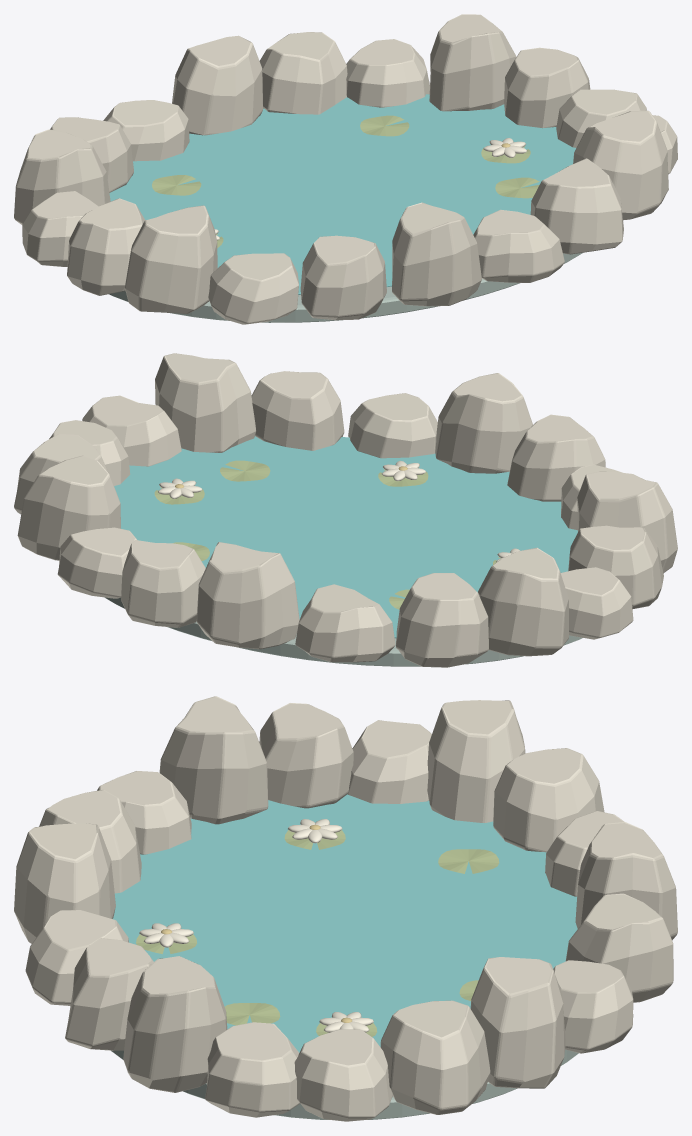
File: Test_CheonRef_Pond.fbx
3 renders of one model, top to bottom at view 1: azimuth 30°, elevation 25°; view 2: azimuth 150°, elevation 25°; view 3: azimuth 270°, elevation 25°, orthographic. The views are drawn at different scales.
Visible parts, largest first — view 1: ThinPondWaterSurface, PondShoreBoulder.011, PondShoreBoulder.014, PondShoreBoulder.005, PondShoreBoulder.002, PondShoreBoulder.017, PondShoreBoulder.016, PondShoreBoulder.013, PondShoreBoulder.004, PondShoreBoulder.008, PondShoreBoulder.012, PondShoreBoulder.010 (+12 smaller); view 2: ThinPondWaterSurface, PondShoreBoulder.005, PondShoreBoulder.008, PondShoreBoulder.017, PondShoreBoulder.014, PondShoreBoulder.007, PondShoreBoulder.002, PondShoreBoulder.016, PondShoreBoulder.004, PondShoreBoulder.006, PondShoreBoulder.011, PondShoreBoulder.013 (+10 smaller); view 3: ThinPondWaterSurface, PondShoreBoulder.017, PondShoreBoulder.002, PondShoreBoulder.001, PondShoreBoulder.011, PondShoreBoulder.008, PondShoreBoulder.014, PondShoreBoulder.007, PondShoreBoulder.010, PondShoreBoulder.018, PondShoreBoulder, PondShoreBoulder.004 (+11 smaller).
Boxes of the visible parts, x1,y1,x2,y2 form: ThinPondWaterSurface: (109,94,576,294); PondShoreBoulder.011: (124,205,217,313); PondShoreBoulder.014: (392,202,481,306); PondShoreBoulder.005: (172,35,262,135); PondShoreBoulder.002: (429,14,516,111); PondShoreBoulder.017: (573,110,668,220); PondShoreBoulder.016: (530,158,623,254); PondShoreBoulder.013: (300,235,386,320); PondShoreBoulder.004: (259,32,347,114); PondShoreBoulder.008: (14,129,110,224); PondShoreBoulder.012: (208,253,298,324); PondShoreBoulder.010: (67,198,144,295); ThinPondWaterSurface: (114,436,577,638); PondShoreBoulder.005: (196,542,299,649); PondShoreBoulder.008: (478,547,568,656); PondShoreBoulder.017: (155,353,255,452); PondShoreBoulder.014: (435,373,532,473); PondShoreBoulder.007: (396,573,488,667); PondShoreBoulder.002: (17,455,120,560); PondShoreBoulder.016: (251,371,344,450); PondShoreBoulder.004: (121,540,205,627); PondShoreBoulder.006: (295,584,395,662); PondShoreBoulder.011: (577,471,677,573); PondShoreBoulder.013: (507,414,605,501); ThinPondWaterSurface: (113,794,577,1052); PondShoreBoulder.017: (123,956,227,1092); PondShoreBoulder.002: (470,957,565,1088); PondShoreBoulder.001: (380,1000,490,1114); PondShoreBoulder.011: (159,696,268,824); PondShoreBoulder.008: (427,700,525,822); PondShoreBoulder.014: (14,823,115,943); PondShoreBoulder.007: (493,748,604,852); PondShoreBoulder.010: (259,703,353,808); PondShoreBoulder.018: (205,1022,299,1117); PondShoreBoulder: (294,1029,392,1121); PondShoreBoulder.004: (565,893,673,1002).
Size of the model in its own units: 772 by 121 by 606.
